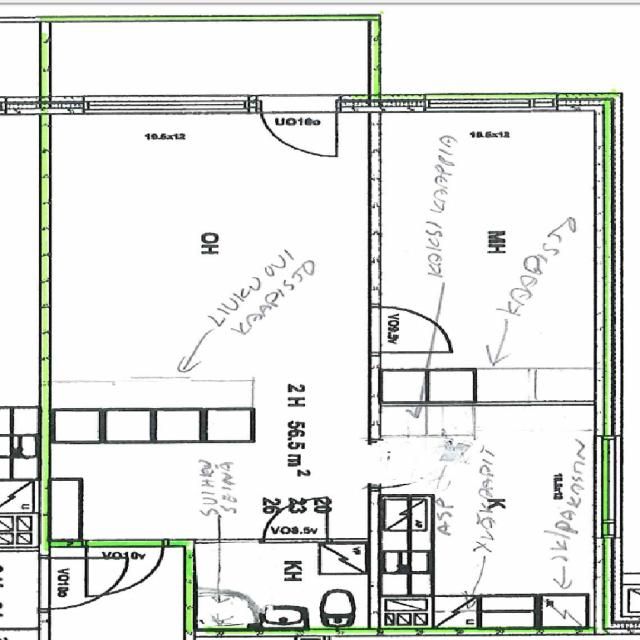door: (258, 96, 336, 162), (86, 540, 164, 596), (370, 306, 455, 352), (263, 500, 326, 544)
